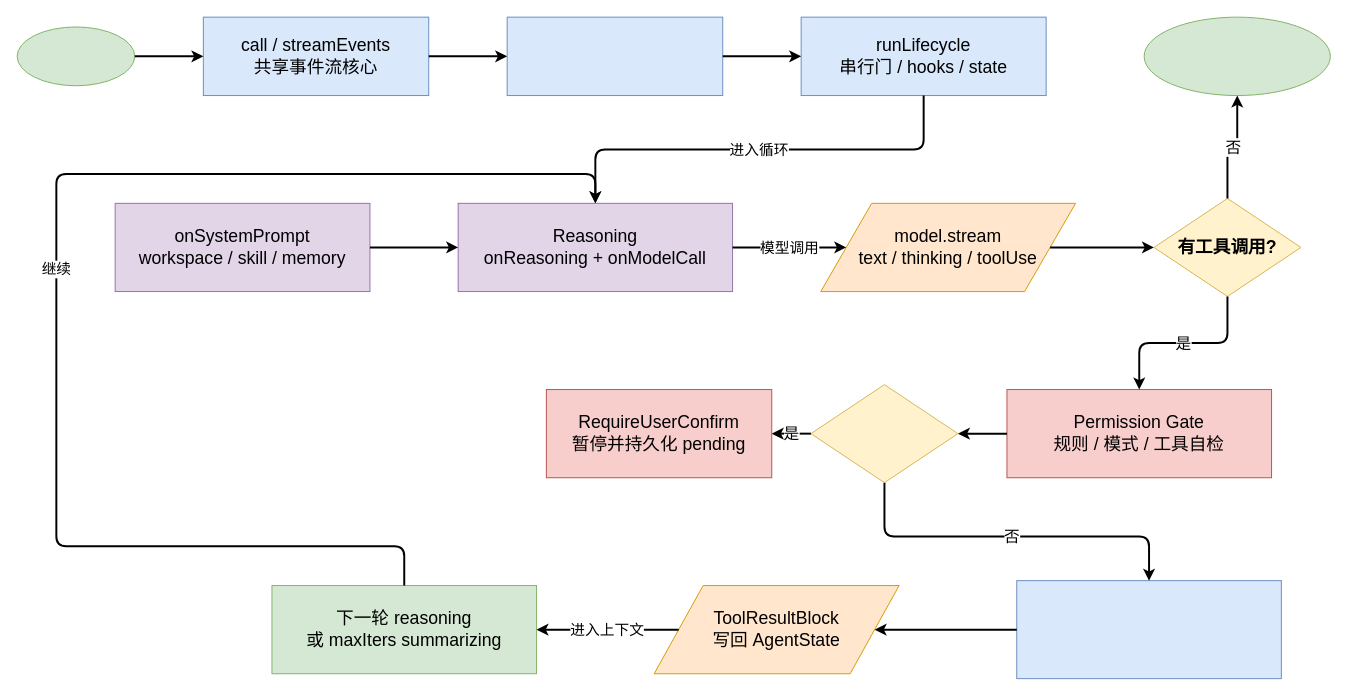
This 1348x696 diagram has some shape labels left out. The shapes that lost their labels are listed below. From the top down, each one's centre as x and y in pixels, then its label:
At [75,56]: "开始".
At [614,56]: "onAgent AgentStart / End".
At [1236,56]: "AgentResultEvent 返回最终 Msg".
At [884,433]: "需要确认?".
At [1148,629]: "Toolkit.callTools 校验 / 超时 / 重试 / 并发".
